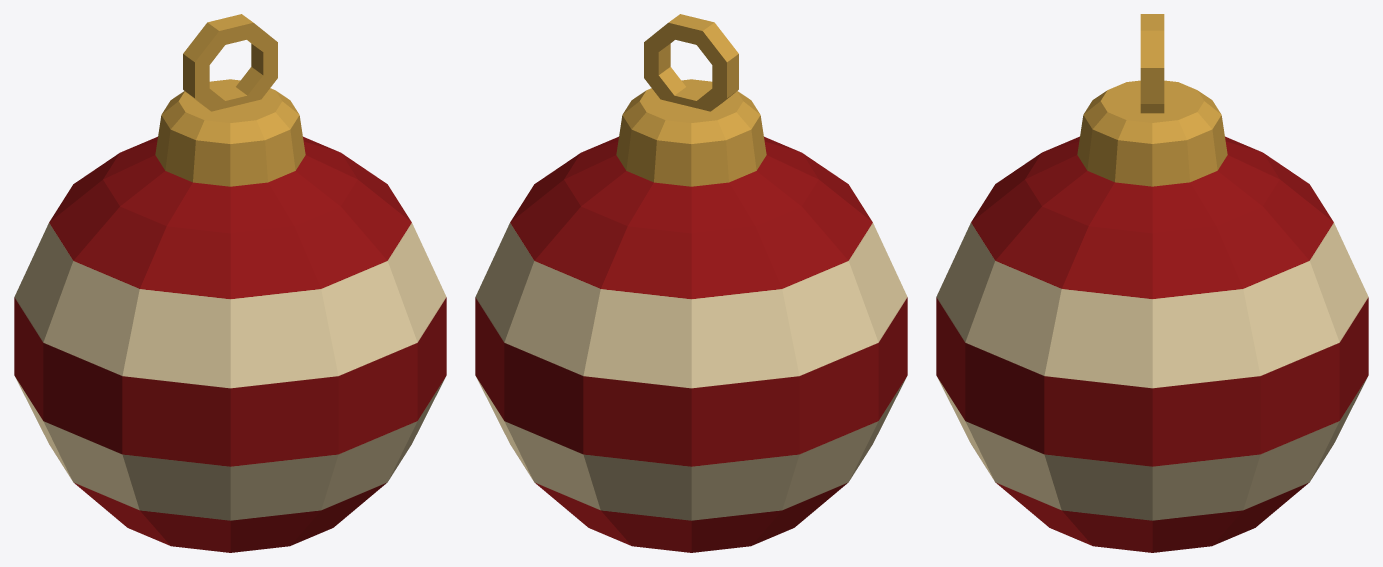
File: 16_Red_Stripes.glb
The picture shows the model from 3 angles, left to right: view 1: azimuth 30°, elevation 25°; view 2: azimuth 150°, elevation 25°; view 3: azimuth 270°, elevation 25°; orthographic projection.
Parts seen in each view (by area): view 1: Red_Stripes, Gold hardware; view 2: Red_Stripes, Gold hardware; view 3: Red_Stripes, Gold hardware.
Boxes of the visible parts, box(x1,y1,x2,y2) form: Red_Stripes: box(14, 136, 446, 552); Gold hardware: box(155, 14, 305, 186); Red_Stripes: box(475, 136, 907, 552); Gold hardware: box(616, 14, 766, 186); Red_Stripes: box(936, 136, 1368, 552); Gold hardware: box(1077, 14, 1227, 186).
Size of the model in its own units: 2 by 2.6 by 2.
2 materials, 1 textured.
